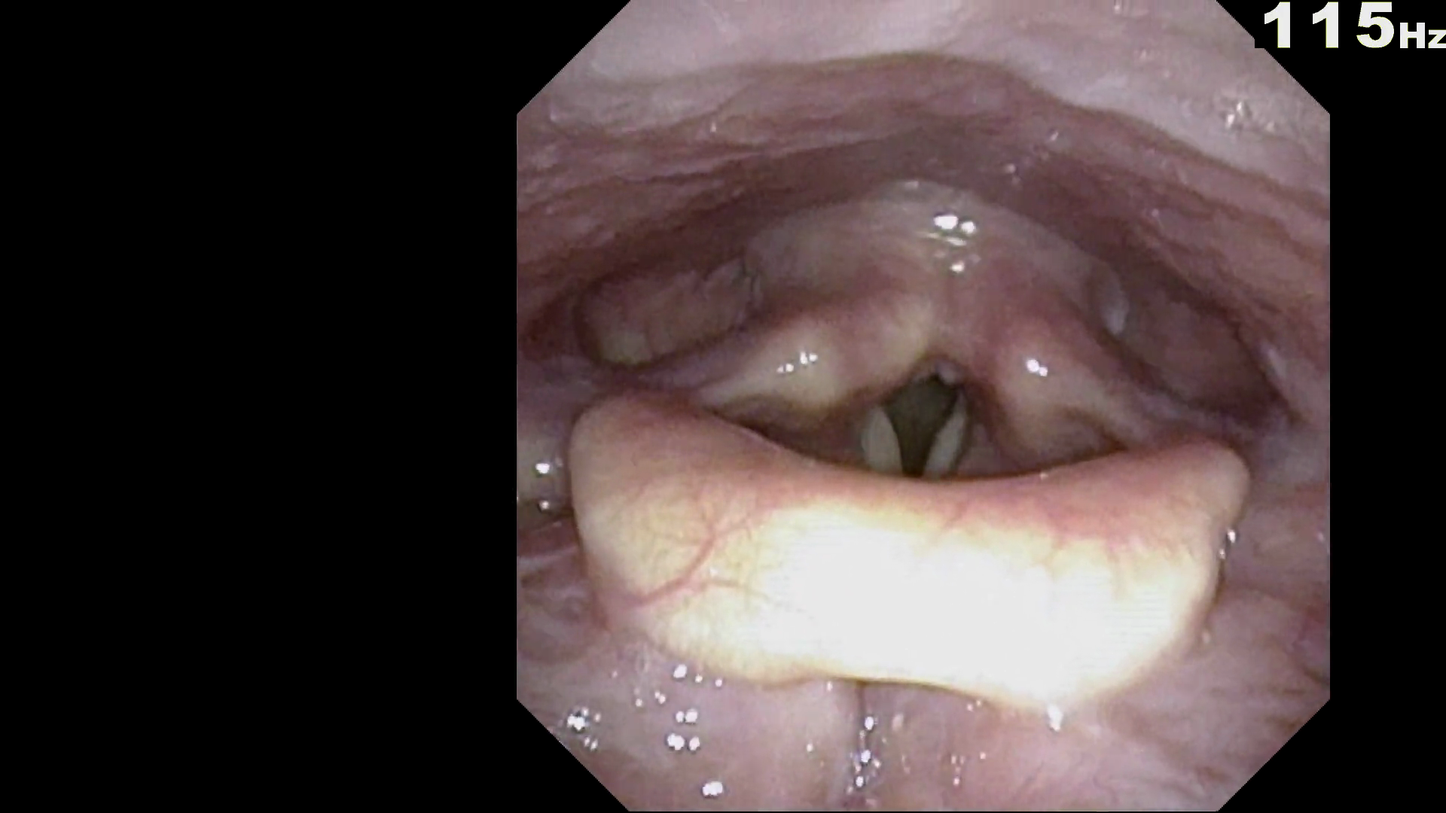epiglottis: (552, 345, 1281, 708)
trachea: (839, 324, 1018, 549)
